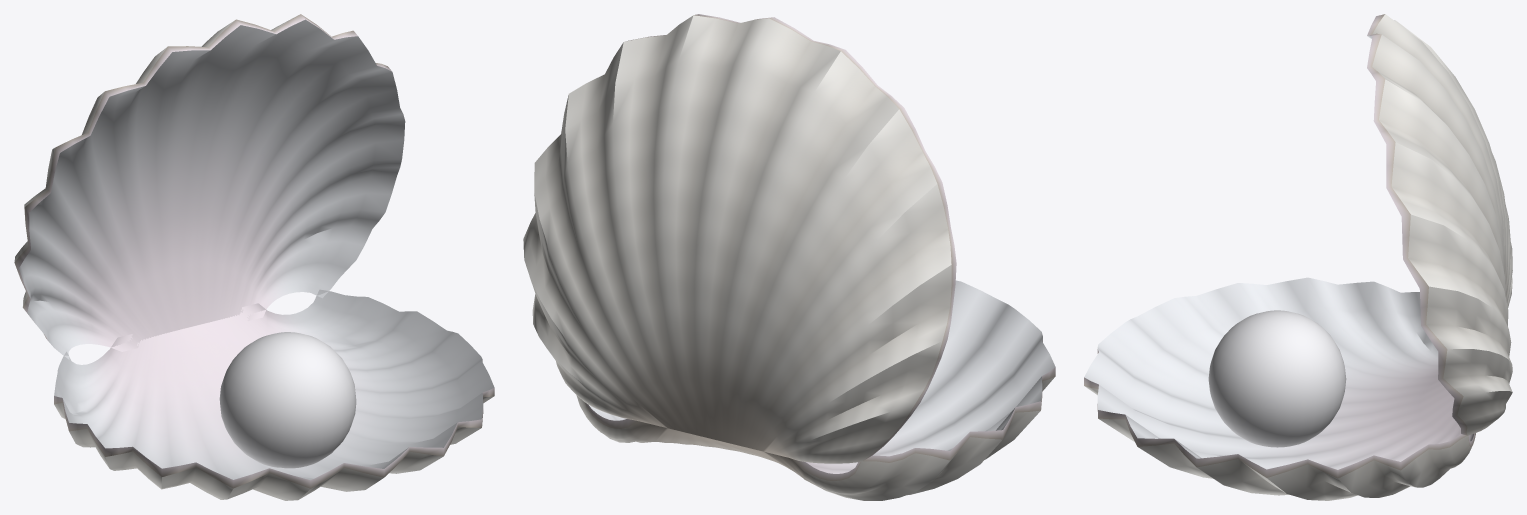
File: PearlInShell.fbx
3 views of the same model, side by side, from view 1: azimuth 30°, elevation 25°; view 2: azimuth 150°, elevation 25°; view 3: azimuth 270°, elevation 25° (orthographic). The views are drawn at different scales.
Visible parts, largest first — view 1: Shell_Top, Shell_Bottom, Pearl; view 2: Shell_Top, Shell_Bottom; view 3: Shell_Bottom, Shell_Top, Pearl.
Boxes of the visible parts, left/top/right/bottom form: Shell_Top: left=14, top=14, right=405, bottom=359; Shell_Bottom: left=54, top=289, right=494, bottom=500; Pearl: left=219, top=332, right=356, bottom=468; Shell_Top: left=523, top=14, right=956, bottom=463; Shell_Bottom: left=576, top=280, right=1055, bottom=500; Shell_Bottom: left=1084, top=277, right=1475, bottom=500; Shell_Top: left=1367, top=14, right=1512, bottom=435; Pearl: left=1208, top=310, right=1346, bottom=447.
Size of the model in its own units: 0.3057 by 0.3156 by 0.2989.
Materials: 2 (1 with a texture image).
